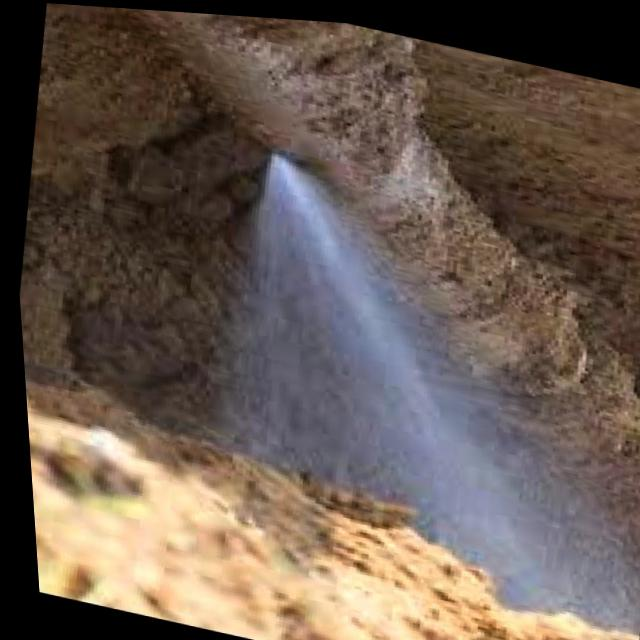leak: (222, 155, 540, 561)
